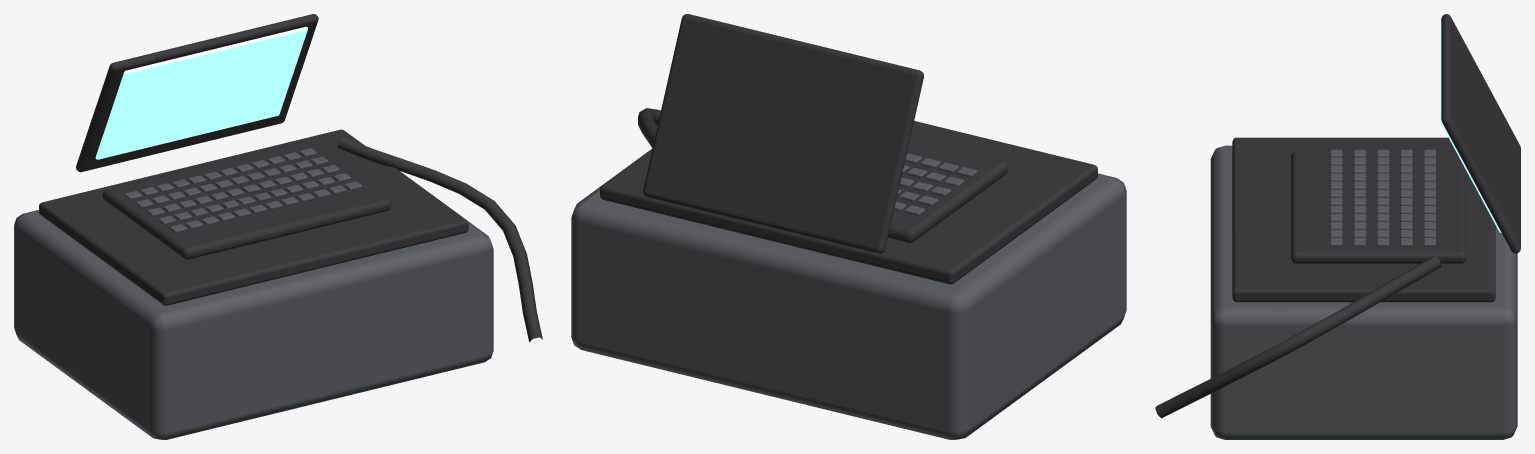
The model's file is arctic-station-fps-kit-laptop-on-case-89beffd5__28531.glb.
The picture shows the model from 3 angles, left to right: view 1: azimuth 30°, elevation 25°; view 2: azimuth 150°, elevation 25°; view 3: azimuth 270°, elevation 25°; orthographic projection. The views are drawn at different scales.
Parts seen in each view (by area): view 1: laptop-on-case; view 2: laptop-on-case; view 3: laptop-on-case.
Boxes of the visible parts, x1,y1,x2,y2 form: laptop-on-case: (14, 14, 542, 439); laptop-on-case: (571, 14, 1126, 439); laptop-on-case: (1155, 14, 1520, 439).
Bounding box in the file's own units: 0.6333 × 0.4441 × 0.5001.
